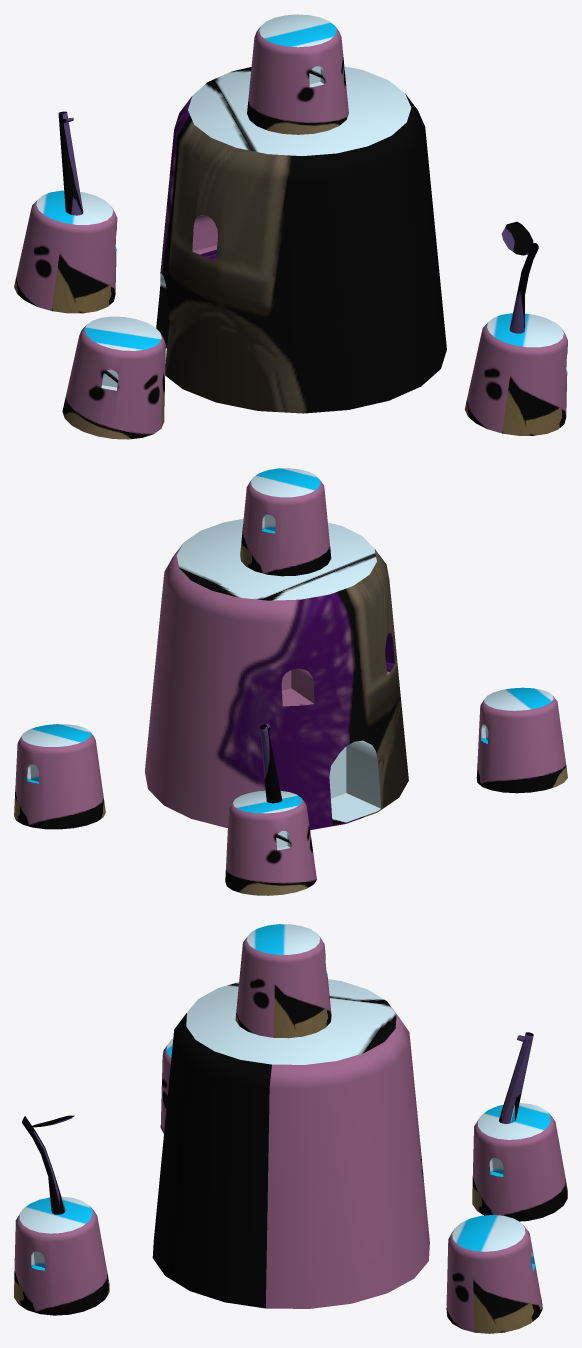
Rendered from Castillo_3.fbx.
3 views of the same model, one above another, from view 1: azimuth 30°, elevation 25°; view 2: azimuth 150°, elevation 25°; view 3: azimuth 270°, elevation 25° (orthographic). The views are drawn at different scales.
Parts seen in each view (by area): view 1: pCylinder59; view 2: pCylinder59; view 3: pCylinder59.
Boxes of the visible parts, box(x1,y1,x2,y2) form: pCylinder59: box(14, 14, 567, 439); pCylinder59: box(14, 468, 567, 895); pCylinder59: box(14, 924, 567, 1333).
Size of the model in its own units: 194 by 136 by 217.
